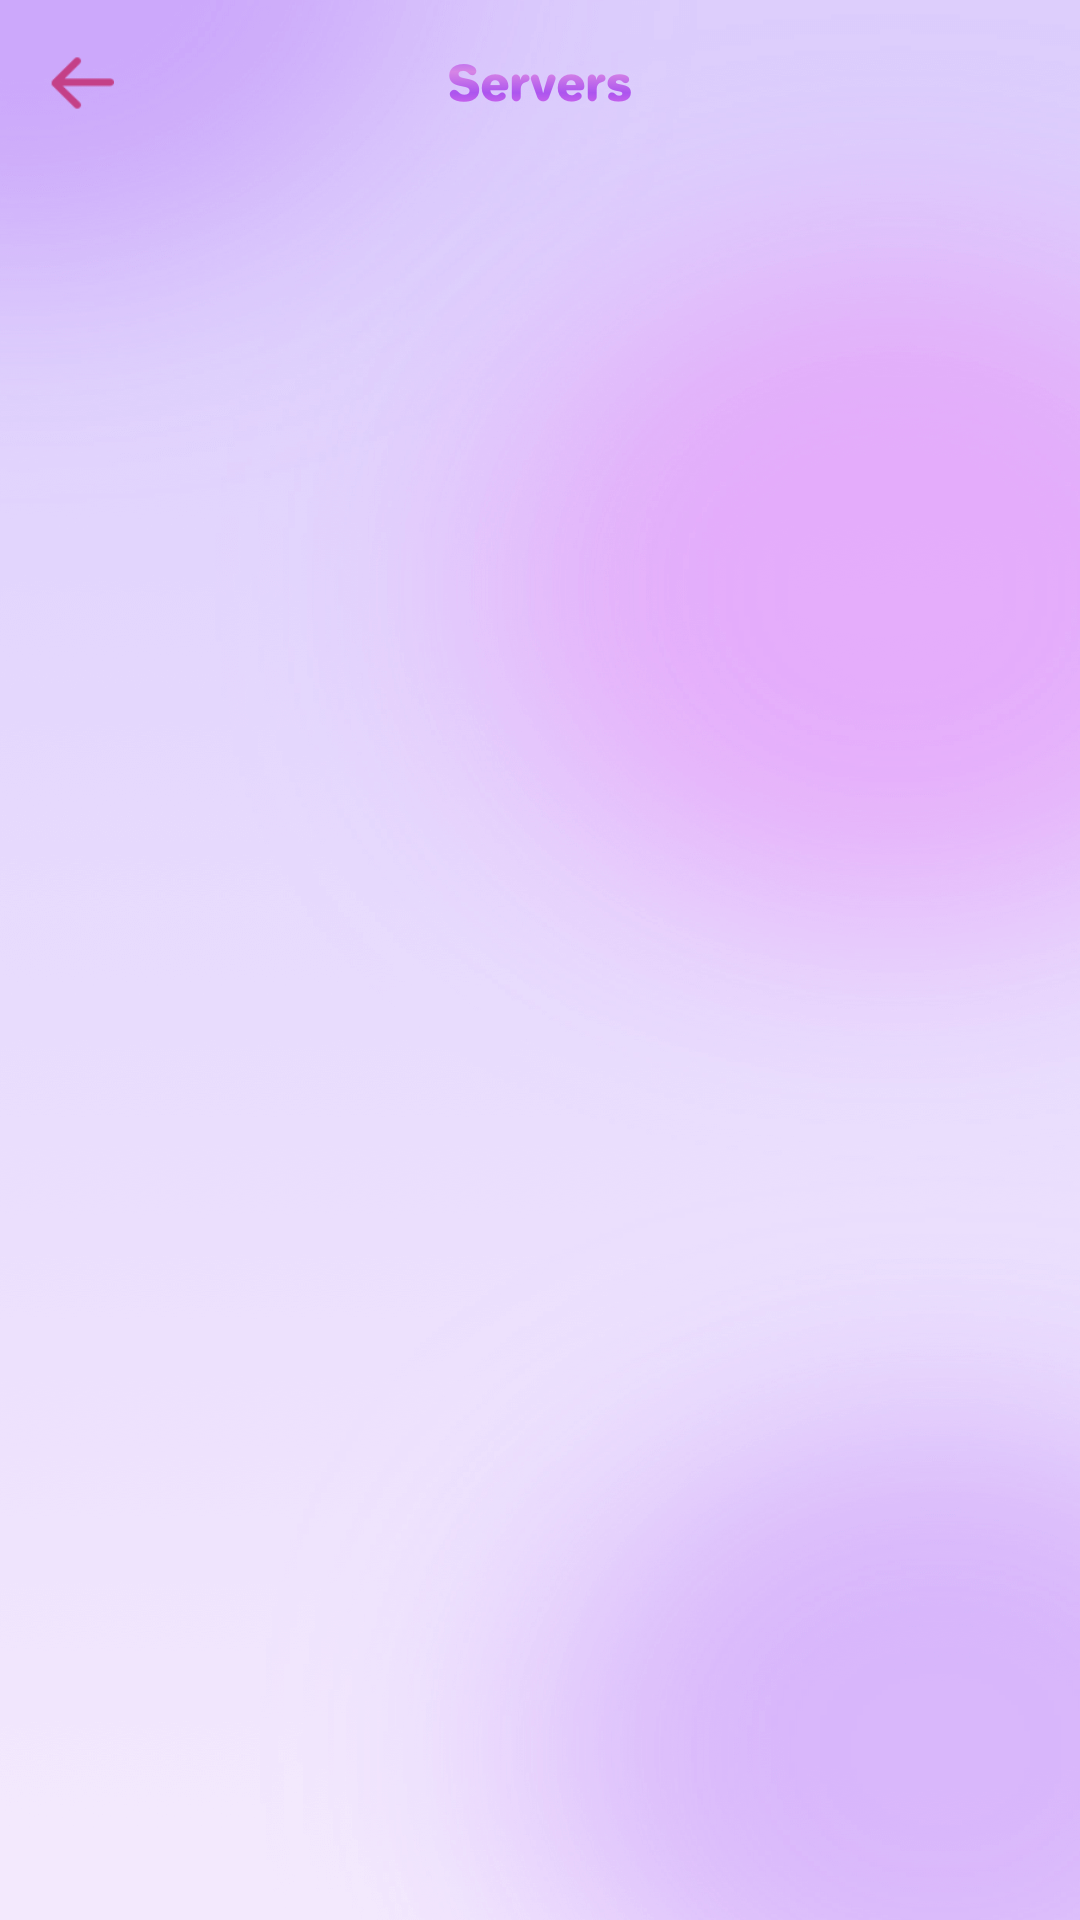

Named icons in this screenshot (1080px x 1920px) and their centers, (x,y):
back: (82,83)
